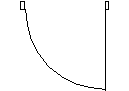door: (22, 10, 109, 91)
